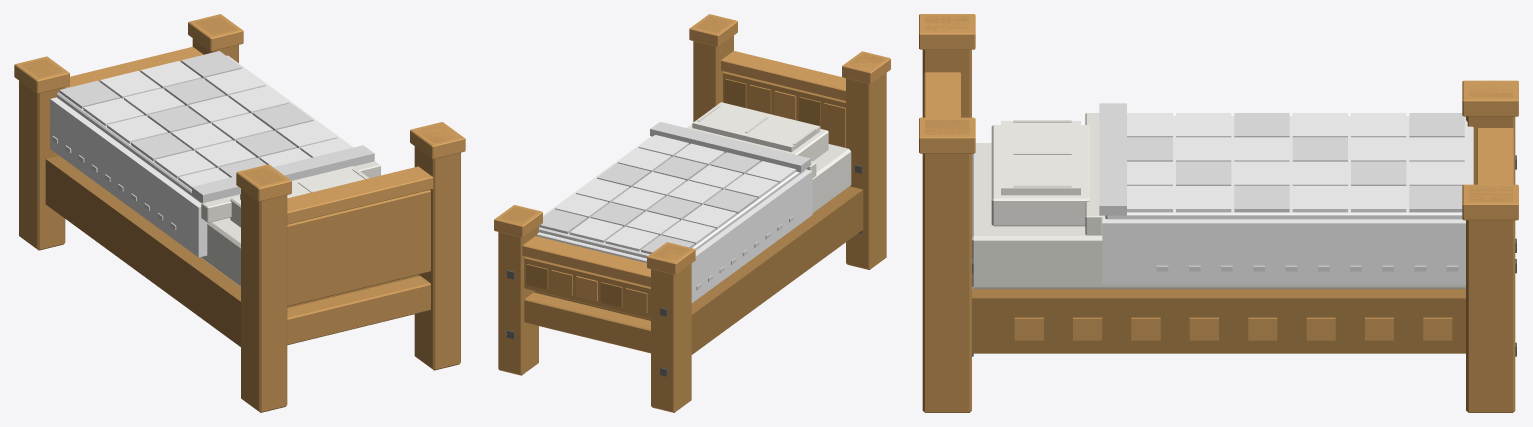
Rendered from oak_bed.gltf.
The picture shows the model from 3 angles, left to right: view 1: azimuth 30°, elevation 25°; view 2: azimuth 150°, elevation 25°; view 3: azimuth 270°, elevation 25°; orthographic projection. The views are drawn at different scales.
Size of the model in its own units: 0.954 by 1 by 1.95.
